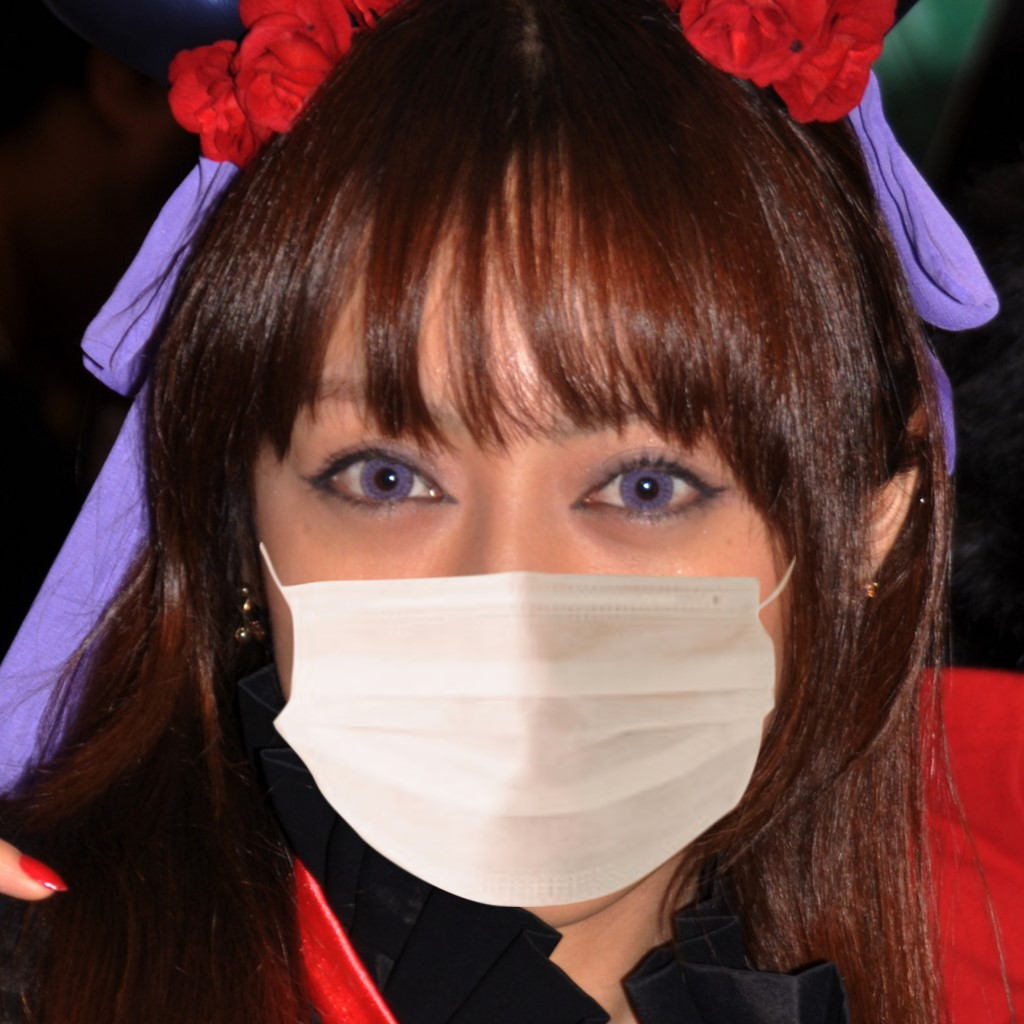con_mascara: (220, 139, 874, 949)
